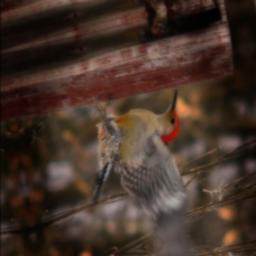Woodpecker: (76, 86, 205, 255)
